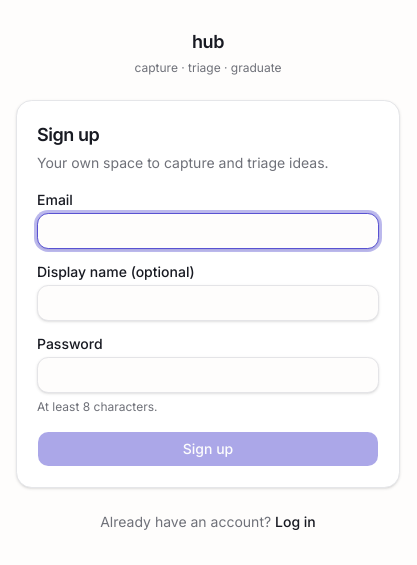
Test case: SignupPage › shows a specific error when the email is already taken
Type "dupe@example.com" into the field labelled "Email" at (208, 231), box [37, 213, 379, 249]
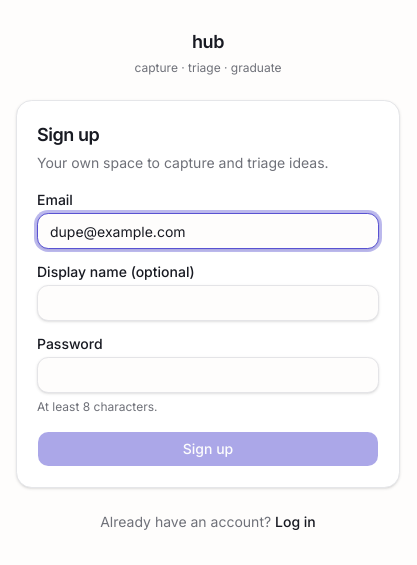
Type "password123" into the password field labelled "Password" at (208, 375), box [37, 357, 379, 393]
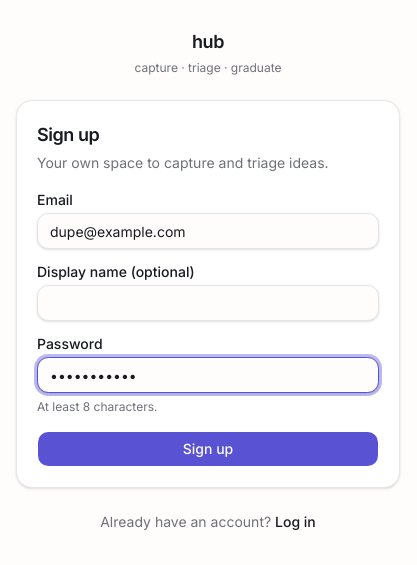
Click the button "Sign up" at (208, 449), box [37, 431, 379, 467]
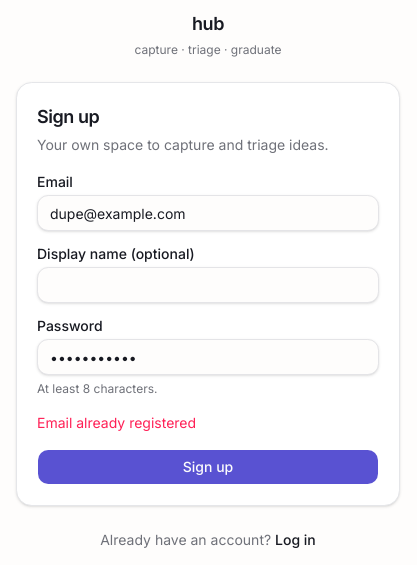
Check: the message reads "Email already registered", box [37, 414, 196, 431]
